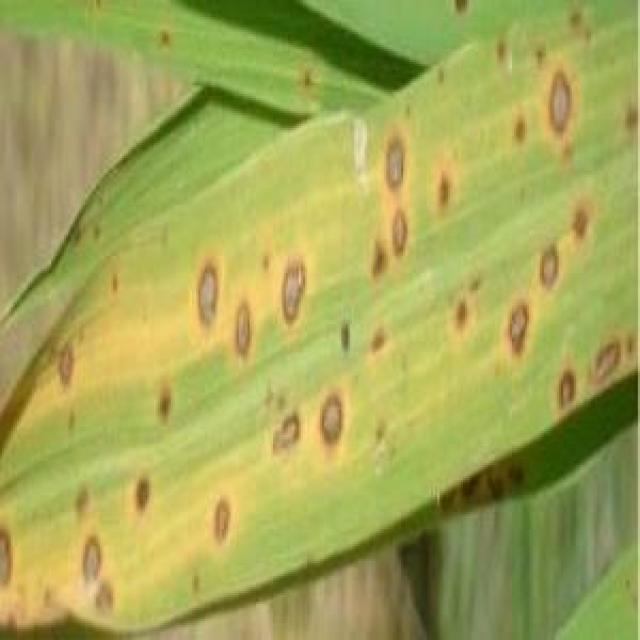Brown_Spot: (262, 258, 322, 332), (179, 263, 228, 337), (542, 70, 584, 142), (255, 407, 315, 457), (504, 292, 544, 367), (376, 128, 415, 204), (586, 330, 632, 392), (314, 392, 352, 458), (227, 295, 263, 364), (206, 489, 248, 546), (531, 238, 572, 295), (556, 196, 600, 248), (428, 160, 462, 223), (383, 207, 423, 259), (546, 366, 587, 416), (359, 236, 400, 284), (124, 475, 164, 515), (147, 386, 183, 430), (334, 320, 366, 364), (64, 216, 94, 262), (100, 269, 137, 306), (76, 535, 106, 579), (440, 304, 481, 336), (367, 324, 402, 358), (560, 7, 597, 39), (94, 575, 122, 616), (52, 339, 76, 384), (500, 114, 533, 145), (0, 519, 14, 591), (547, 144, 583, 170), (614, 102, 640, 132), (492, 42, 518, 69), (156, 23, 181, 48), (298, 67, 322, 93), (446, 0, 484, 13), (531, 43, 548, 69), (392, 103, 415, 119), (434, 68, 448, 85)
